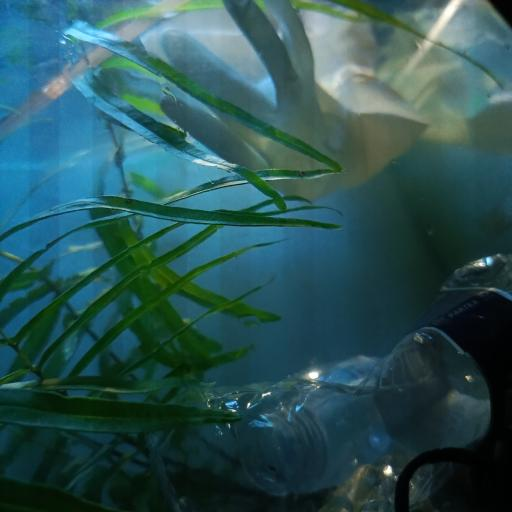glove: (158, 1, 505, 204)
mask: (396, 449, 512, 512)
plastic_bottle: (151, 250, 512, 512), (249, 354, 447, 485)
plastic_straw: (1, 0, 195, 140)
